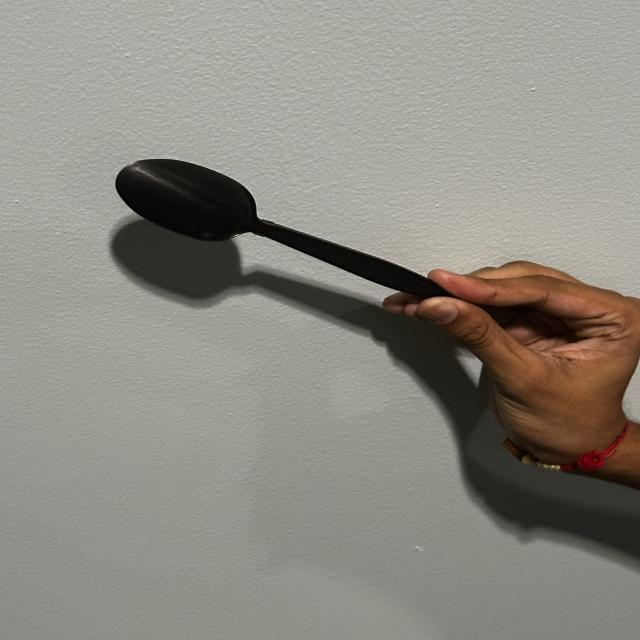spoon: (57, 108, 457, 311)
